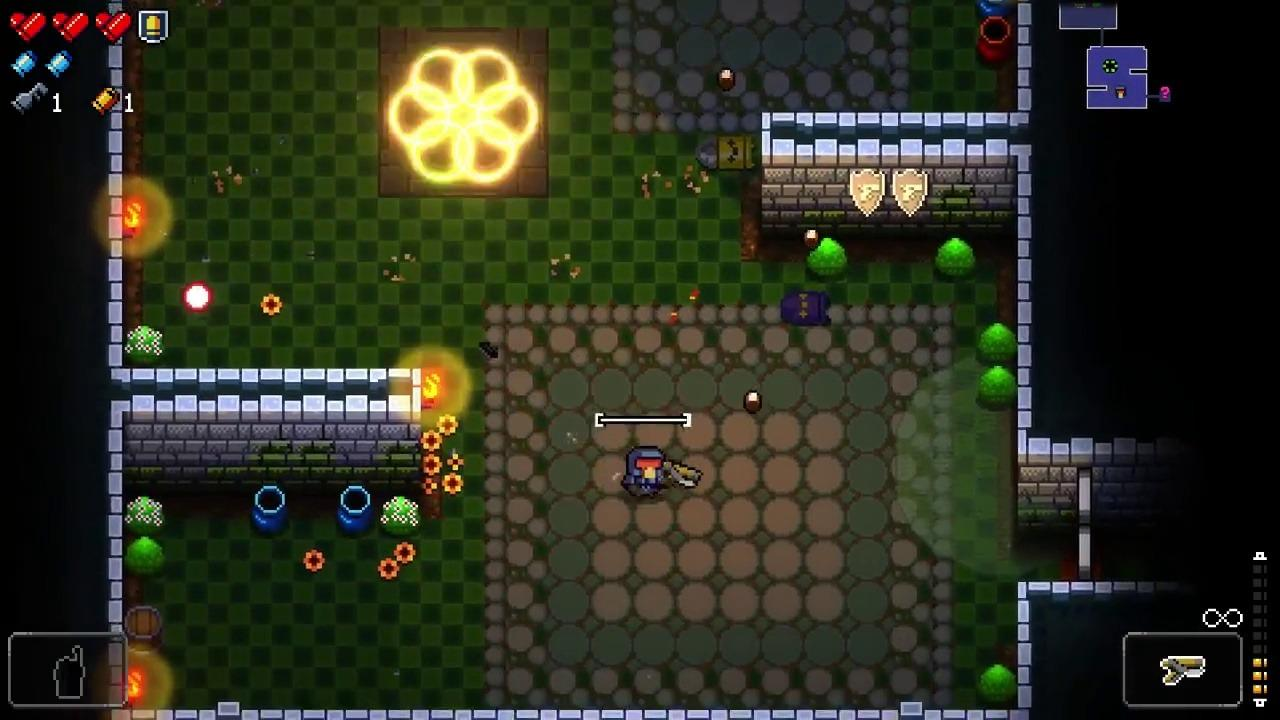bullet: (183, 283, 212, 312)
dead_bullet_kin: (697, 137, 758, 171)
player: (627, 446, 664, 498)
rubber_kin: (782, 291, 833, 327)
teleporter: (376, 24, 550, 199)
unlocked_door: (1076, 469, 1093, 583)
